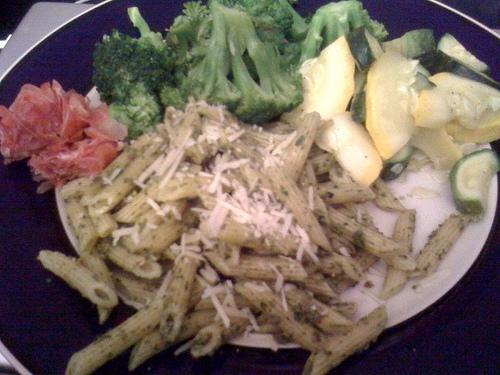broccoli: (180, 0, 304, 126), (92, 29, 186, 106), (295, 1, 389, 71), (220, 2, 302, 68), (166, 1, 212, 70), (109, 87, 164, 140), (379, 28, 436, 58)
vegetable marrow: (279, 36, 356, 128), (363, 49, 418, 161), (313, 112, 383, 186), (414, 73, 500, 128), (449, 148, 500, 215), (430, 50, 500, 91), (437, 32, 492, 75), (410, 127, 463, 170), (445, 108, 500, 143), (345, 24, 384, 73), (379, 28, 436, 58), (352, 70, 369, 124), (380, 155, 412, 180), (408, 71, 436, 94)
